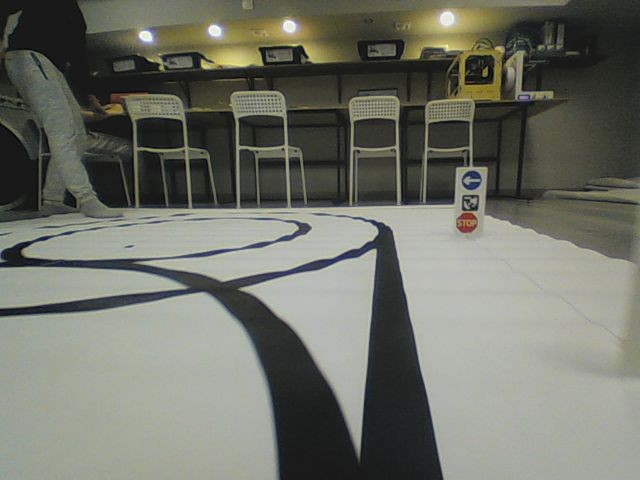Stop: (455, 212, 479, 234)
